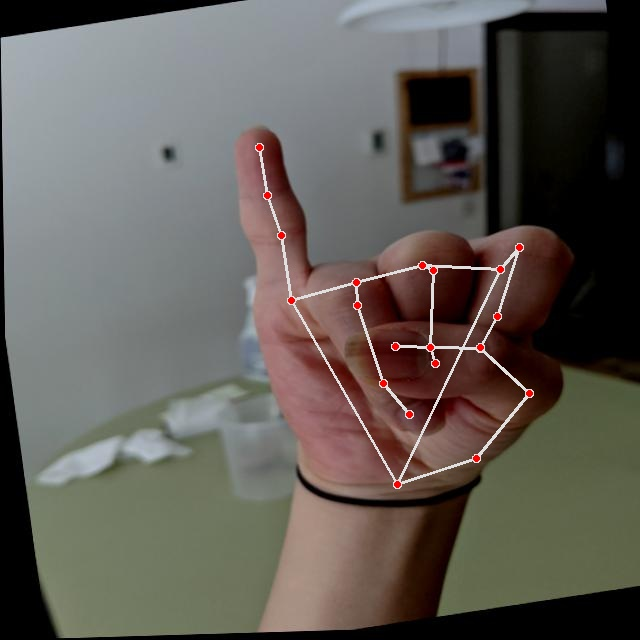I: (210, 75, 616, 532)
